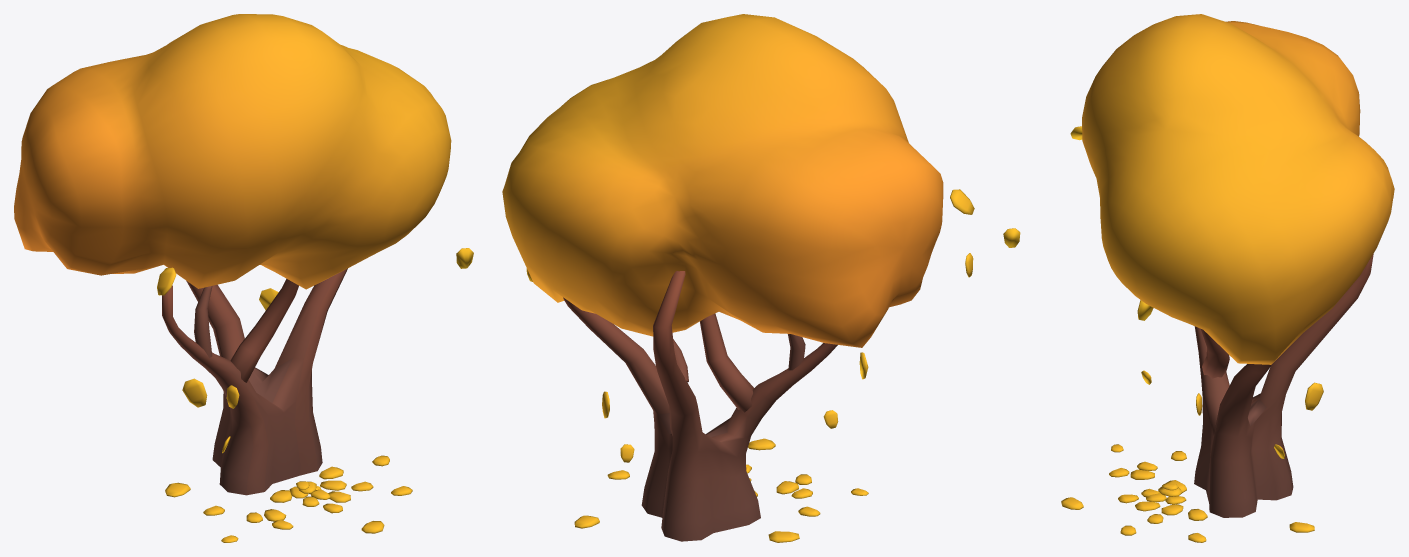
Rendered from Big_Tree_Autumn_01.fbx.
3 renders of one model, left to right at view 1: azimuth 30°, elevation 25°; view 2: azimuth 150°, elevation 25°; view 3: azimuth 270°, elevation 25°, orthographic. The views are drawn at different scales.
Visible parts, largest first — view 1: Big_Tree_Autumn_01; view 2: Big_Tree_Autumn_01; view 3: Big_Tree_Autumn_01.
Part boxes in pixels (box(x1,y1,x2,y2)): Big_Tree_Autumn_01: box(14, 14, 473, 542); Big_Tree_Autumn_01: box(502, 14, 974, 542); Big_Tree_Autumn_01: box(1003, 14, 1394, 542).
Bounding box in the file's own units: 710 × 771 × 606.
